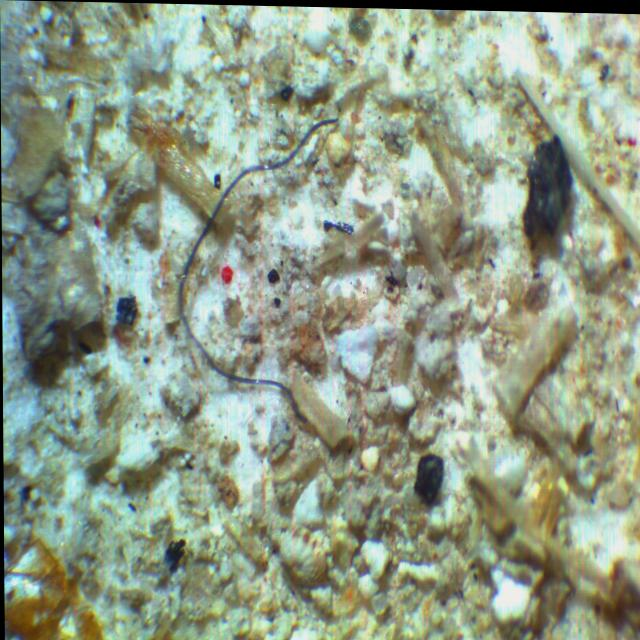microplastic: (166, 101, 340, 421)
